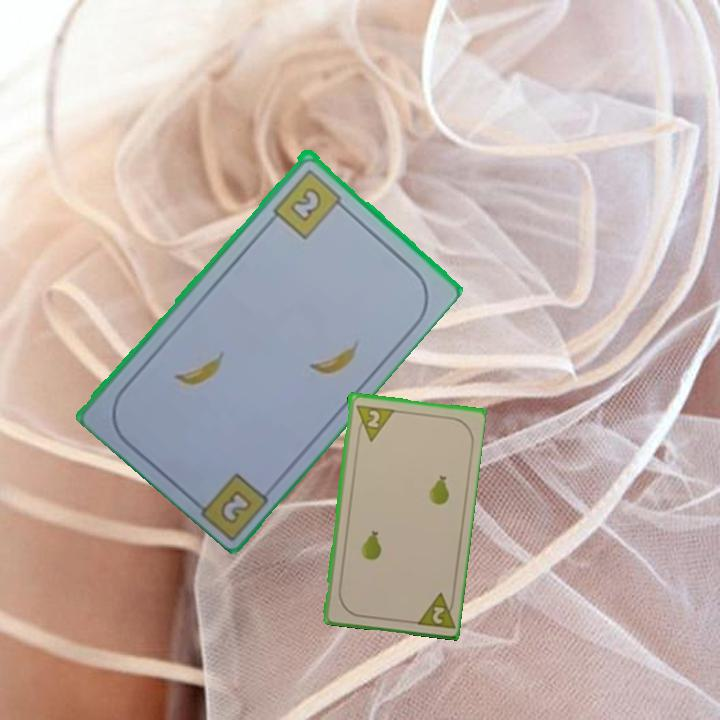2b: (269, 165, 350, 241), (219, 489, 252, 524)
2p: (411, 588, 457, 631), (352, 401, 395, 444)
